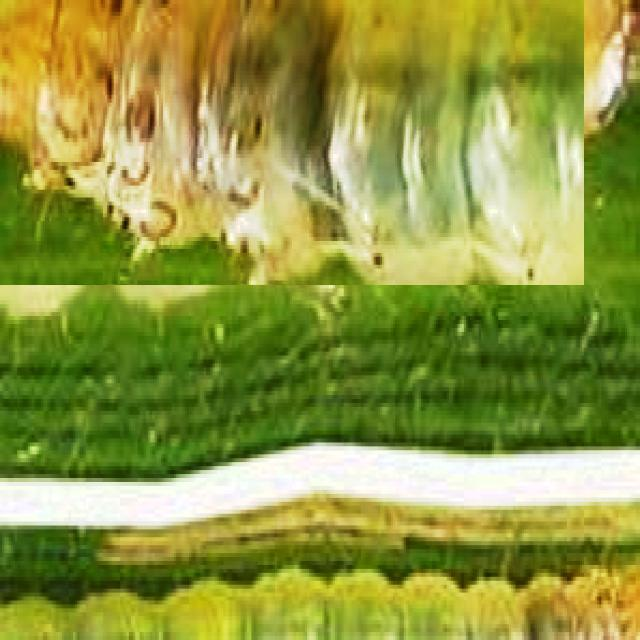leaf-folder: (0, 0, 584, 285)
